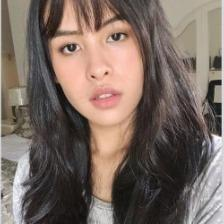Non hijab: (19, 0, 220, 224)
